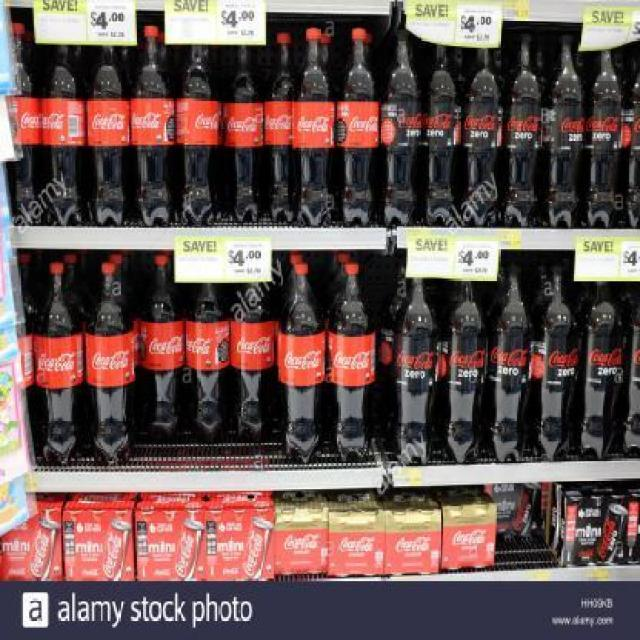Drinks: (82, 261, 135, 467), (33, 261, 84, 467), (174, 24, 223, 228), (388, 268, 437, 467), (328, 262, 376, 464), (280, 262, 326, 468), (441, 264, 488, 464), (490, 262, 536, 464), (137, 255, 185, 448), (86, 22, 131, 226), (130, 24, 175, 228), (42, 22, 86, 226), (540, 34, 586, 228), (230, 252, 276, 446), (185, 258, 230, 446), (336, 28, 378, 228), (380, 28, 422, 227), (536, 263, 578, 462), (580, 262, 622, 461), (544, 481, 640, 566), (460, 26, 500, 228), (225, 21, 264, 224), (296, 28, 335, 227), (502, 32, 540, 228), (6, 22, 42, 226), (586, 34, 622, 230), (422, 28, 455, 228), (263, 32, 297, 223), (134, 492, 206, 580), (64, 492, 134, 580), (205, 492, 273, 580), (1, 494, 64, 582), (328, 488, 386, 576), (441, 484, 497, 570), (386, 487, 440, 575), (274, 489, 329, 574), (483, 483, 542, 539)
